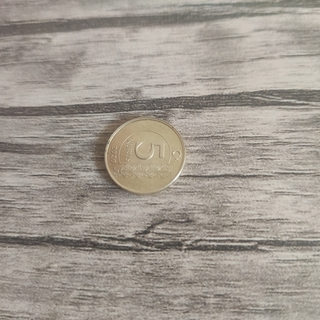5KURUS: (104, 116, 187, 195)
